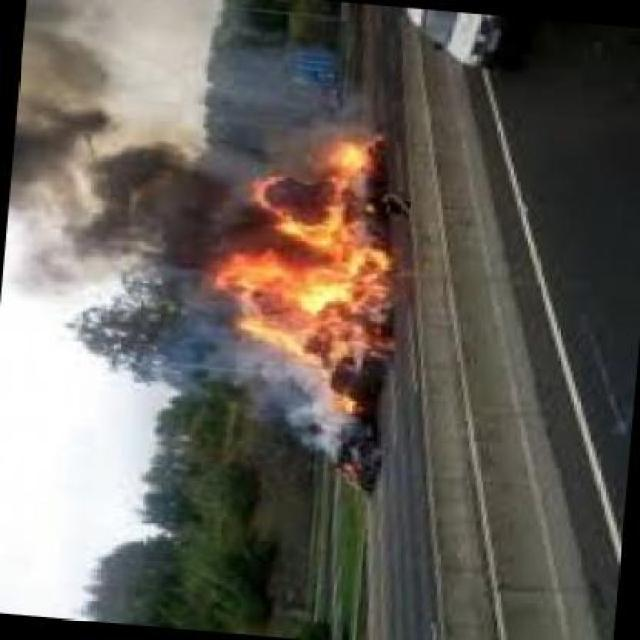Fire: (217, 132, 407, 400)
Smoke: (13, 8, 198, 340), (200, 20, 413, 130)
